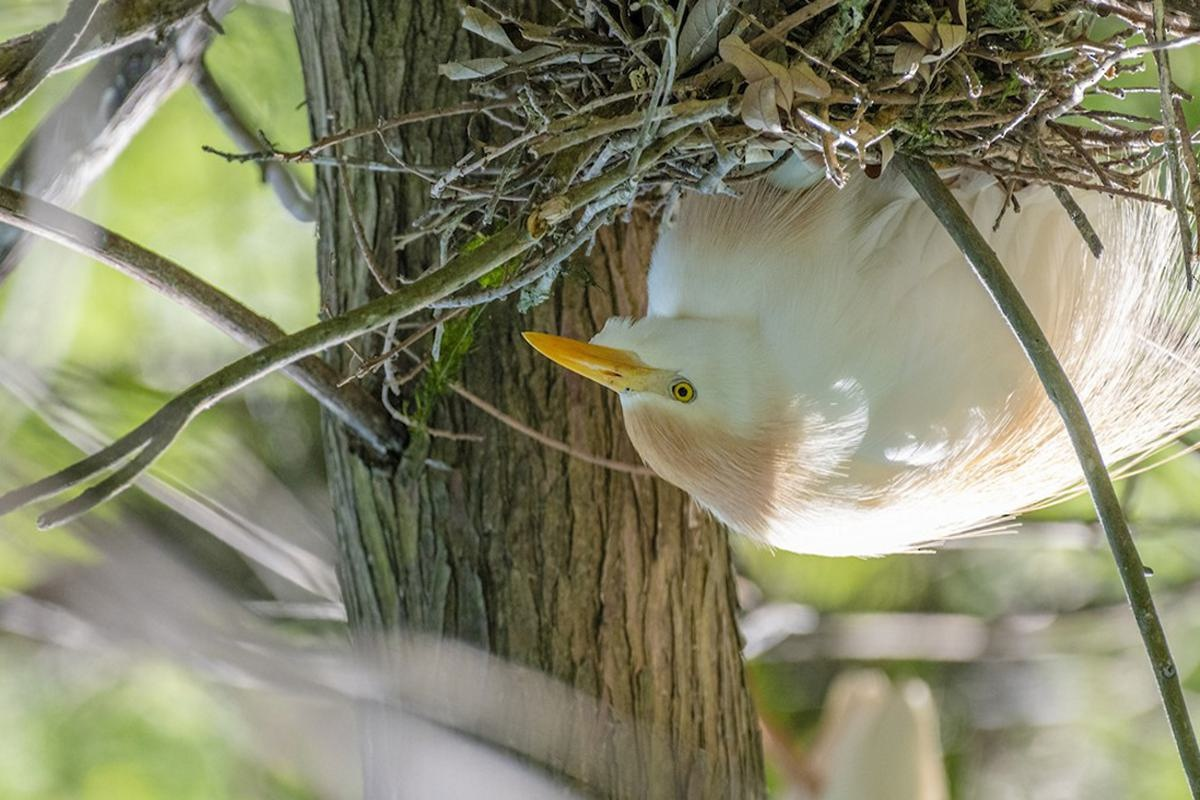egret: (497, 132, 1200, 560)
